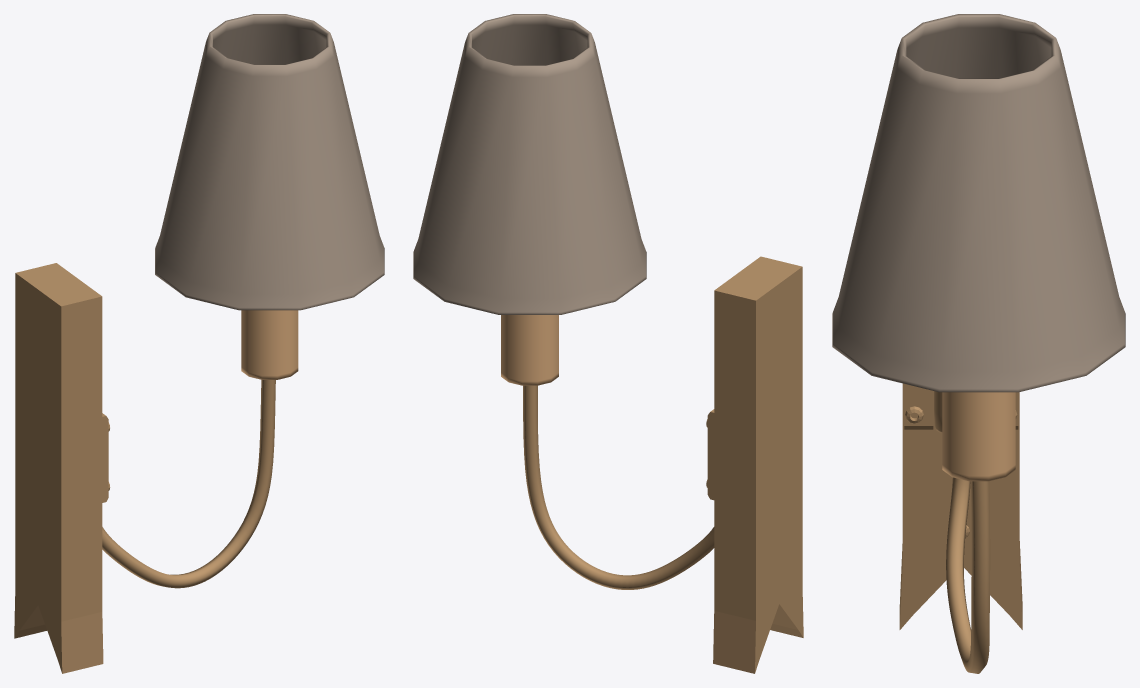
Rendered from wall lamp.fbx.
3 views of the same model, side by side, from view 1: azimuth 30°, elevation 25°; view 2: azimuth 150°, elevation 25°; view 3: azimuth 270°, elevation 25° (orthographic). The views are drawn at different scales.
Parts seen in each view (by area): view 1: Cylinder.024, Cube.008, NurbsPath.002, Cylinder.025, Cube.007; view 2: Cylinder.024, Cube.008, NurbsPath.002, Cylinder.025, Cube.007; view 3: Cylinder.024, Cube.008, NurbsPath.002, Cylinder.025, Cube.007.
Boxes of the visible parts, x1=… form: Cylinder.024: x1=155, y1=14, x2=384, y2=310; Cube.008: x1=14, y1=263, x2=103, y2=673; NurbsPath.002: x1=102, y1=380, x2=275, y2=588; Cylinder.025: x1=241, y1=310, x2=298, y2=379; Cube.007: x1=102, y1=413, x2=108, y2=502; Cylinder.024: x1=413, y1=14, x2=646, y2=314; Cube.008: x1=713, y1=256, x2=803, y2=673; NurbsPath.002: x1=523, y1=385, x2=714, y2=589; Cylinder.025: x1=501, y1=315, x2=558, y2=385; Cube.007: x1=707, y1=409, x2=714, y2=500; Cylinder.024: x1=832, y1=14, x2=1125, y2=392; Cube.008: x1=899, y1=383, x2=1022, y2=629; NurbsPath.002: x1=946, y1=477, x2=990, y2=673; Cylinder.025: x1=942, y1=392, x2=1015, y2=481; Cube.007: x1=904, y1=384, x2=1018, y2=429.
Bounding box in the file's own units: 546 × 854 × 321.
